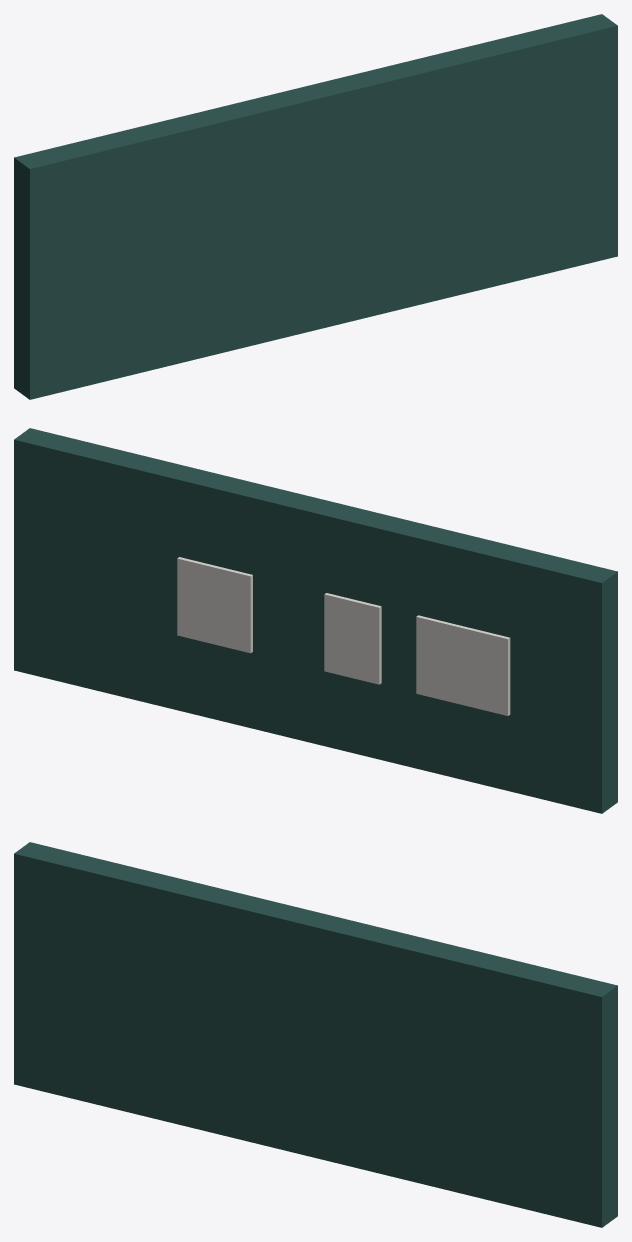
Rendered from room_sign.fbx.
The picture shows the model from 3 angles, top to bottom: view 1: azimuth 30°, elevation 25°; view 2: azimuth 150°, elevation 25°; view 3: azimuth 330°, elevation 25°; orthographic projection.
Parts seen in each view (by area): view 1: room_sign; view 2: room_sign; view 3: room_sign.
Boxes of the visible parts, <box> form: room_sign: <box>14,14,617,399</box>; room_sign: <box>14,428,617,813</box>; room_sign: <box>14,842,617,1227</box>.
Bounding box in the file's own units: 0.32 × 0.12 × 0.017.
